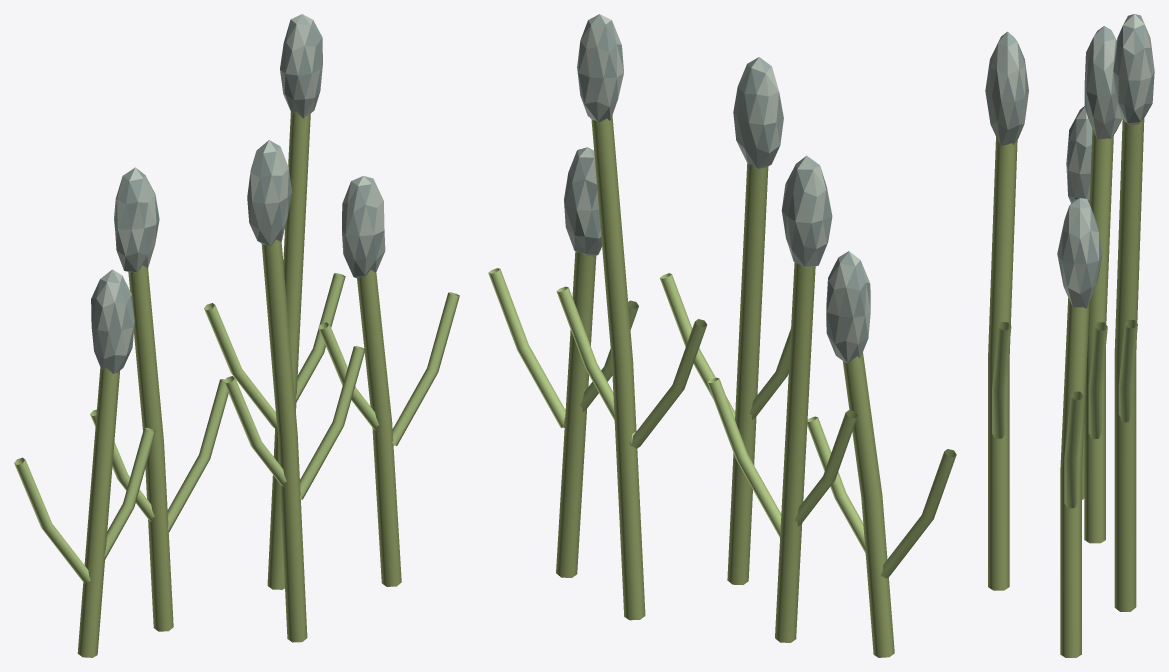
File: mdl_env_reed.glb
3 renders of one model, left to right at view 1: azimuth 30°, elevation 25°; view 2: azimuth 150°, elevation 25°; view 3: azimuth 270°, elevation 25°, orthographic. The views are drawn at different scales.
Parts seen in each view (by area): view 1: Reed stem 04, Reed stem 00, Reed stem 02, Reed stem 01, Reed stem 03, Reed seed head 00, Reed seed head 02, Reed seed head 04, Reed seed head 03, Reed seed head 01, Reed blade 02 1, Reed blade 04 1 (+8 smaller); view 2: Reed stem 01, Reed stem 04, Reed stem 00, Reed stem 03, Reed stem 02, Reed seed head 04, Reed seed head 00, Reed seed head 03, Reed seed head 01, Reed seed head 02, Reed blade 02 1, Reed blade 00 1 (+8 smaller); view 3: Reed stem 01, Reed stem 04, Reed stem 02, Reed stem 00, Reed seed head 04, Reed seed head 02, Reed seed head 01, Reed seed head 00, Reed seed head 03, Reed blade 02 1, Reed blade 04 1, Reed blade 00 1 (+1 smaller).
Part boxes in pixels (x1,y1,x2,y2): Reed stem 04: (261,239,307,642); Reed stem 00: (128,265,173,631); Reed stem 02: (357,270,401,586); Reed stem 01: (267,111,310,589); Reed stem 03: (77,367,119,657); Reed seed head 00: (114,167,159,272); Reed seed head 02: (342,176,385,278); Reed seed head 04: (247,140,291,245); Reed seed head 03: (91,269,134,373); Reed seed head 01: (280,14,322,118); Reed blade 02 1: (392,292,459,445); Reed blade 04 1: (300,346,365,499); Reed stem 01: (591,115,645,620); Reed stem 04: (727,163,768,584); Reed stem 00: (775,262,815,642); Reed stem 03: (842,352,894,657); Reed stem 02: (556,251,596,577); Reed seed head 04: (733,57,783,169); Reed seed head 00: (781,155,832,267); Reed seed head 03: (826,251,870,363); Reed seed head 01: (577,14,623,122); Reed seed head 02: (564,147,601,256); Reed blade 02 1: (488,268,565,427); Reed blade 00 1: (707,377,781,537); Reed stem 01: (1114,118,1144,611); Reed stem 04: (988,137,1017,590); Reed stem 02: (1060,298,1089,657); Reed stem 00: (1084,129,1113,543); Reed seed head 04: (985,31,1028,146); Reed seed head 02: (1057,198,1102,308); Reed seed head 01: (1113,14,1154,125); Reed seed head 00: (1084,26,1122,139); Reed seed head 03: (1066,106,1092,203); Reed blade 02 1: (1064,391,1083,508); Reed blade 04 1: (992,322,1011,438); Reed blade 00 1: (1088,322,1107,438).
Size of the model in its own units: 1.83 by 2.23 by 0.562.
